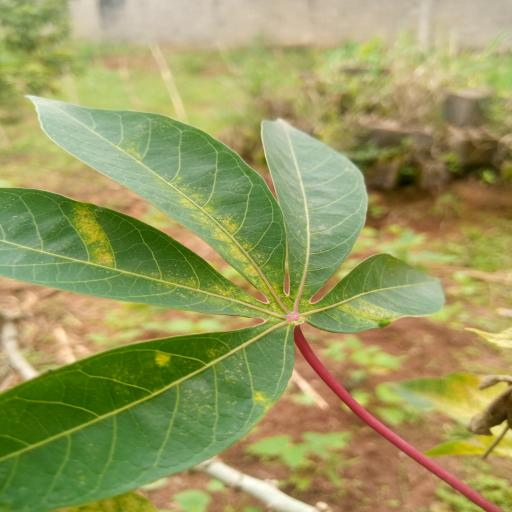Cassava_Mosaic: (5, 90, 447, 511)
